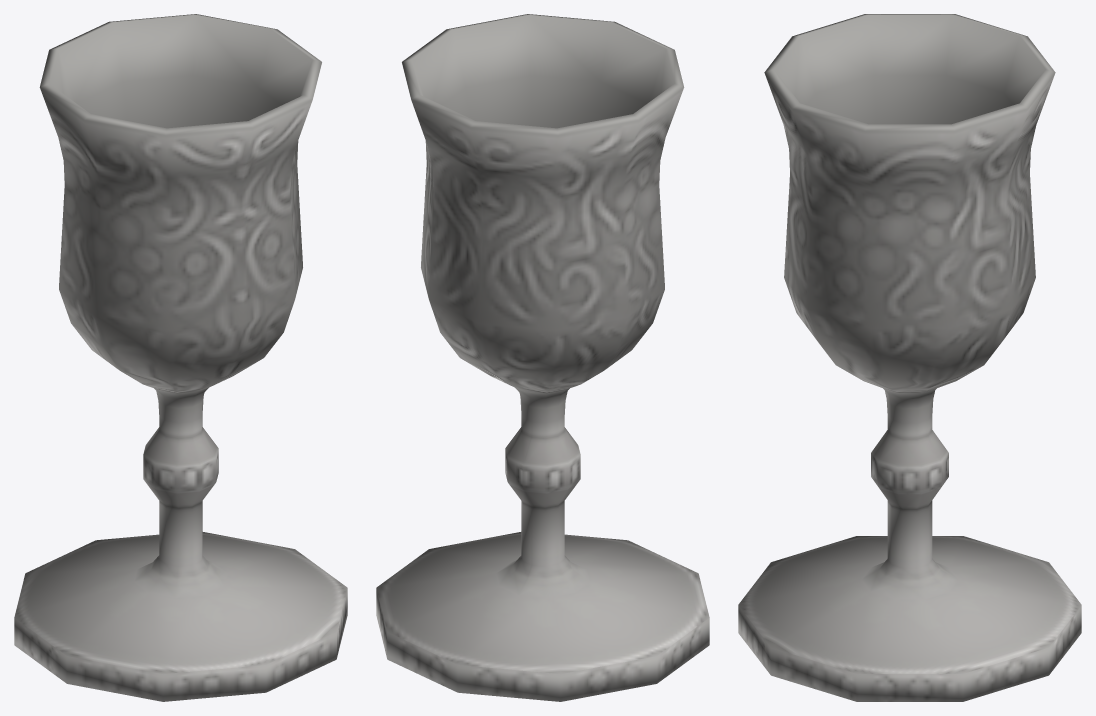
File: sb_obj_indoor020_Cup03.fbx
3 views of the same model, side by side, from view 1: azimuth 30°, elevation 25°; view 2: azimuth 150°, elevation 25°; view 3: azimuth 270°, elevation 25° (orthographic).
Visible parts, largest first — view 1: sb_obj_indoor020_Cup03; view 2: sb_obj_indoor020_Cup03; view 3: sb_obj_indoor020_Cup03.
Part boxes in pixels (x1=…): sb_obj_indoor020_Cup03: x1=14, y1=14, x2=347, y2=701; sb_obj_indoor020_Cup03: x1=376, y1=14, x2=709, y2=701; sb_obj_indoor020_Cup03: x1=738, y1=14, x2=1081, y2=701.
Bounding box in the file's own units: 0.0951 × 0.1809 × 0.1.
